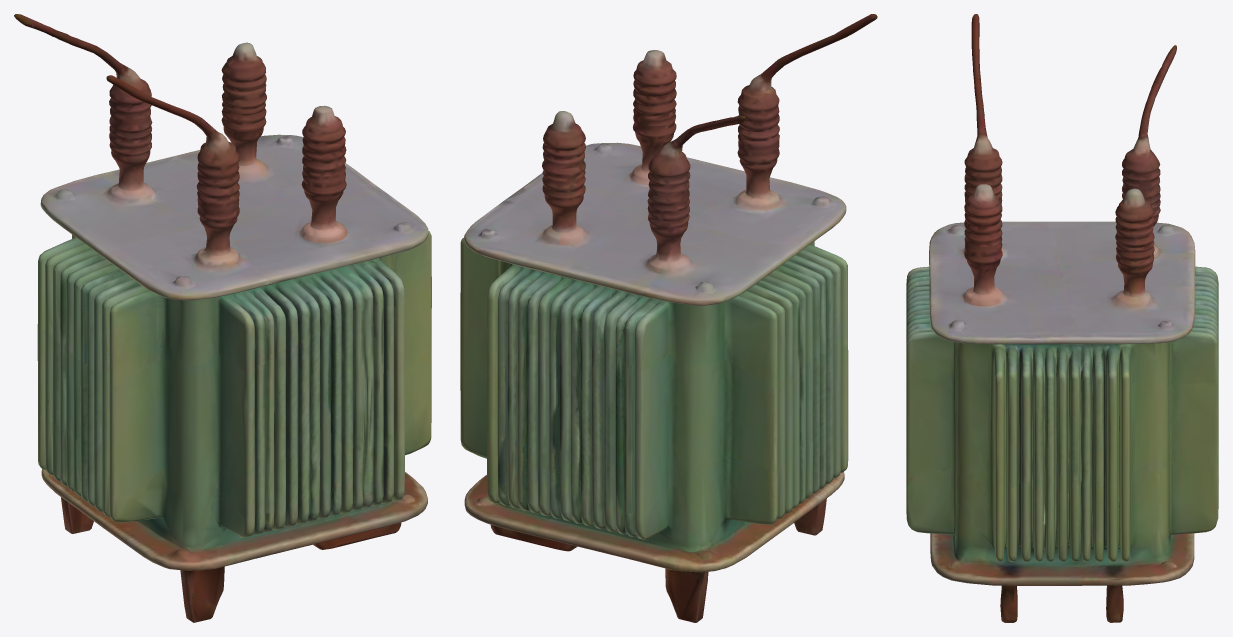
The model's file is transformer_unit.glb.
3 renders of one model, left to right at view 1: azimuth 30°, elevation 25°; view 2: azimuth 150°, elevation 25°; view 3: azimuth 270°, elevation 25°, orthographic. The views are drawn at different scales.
Parts seen in each view (by area): view 1: tripo_node_a982e82e-4f85-42a4-85d7-e10369b19ea9; view 2: tripo_node_a982e82e-4f85-42a4-85d7-e10369b19ea9; view 3: tripo_node_a982e82e-4f85-42a4-85d7-e10369b19ea9.
Part boxes in pixels (x1,y1,x2,y2): tripo_node_a982e82e-4f85-42a4-85d7-e10369b19ea9: (14, 14, 431, 622); tripo_node_a982e82e-4f85-42a4-85d7-e10369b19ea9: (460, 14, 877, 622); tripo_node_a982e82e-4f85-42a4-85d7-e10369b19ea9: (906, 14, 1218, 622).
Size of the model in its own units: 0.6061 by 0.9489 by 0.5503.
1 material, 1 textured.
